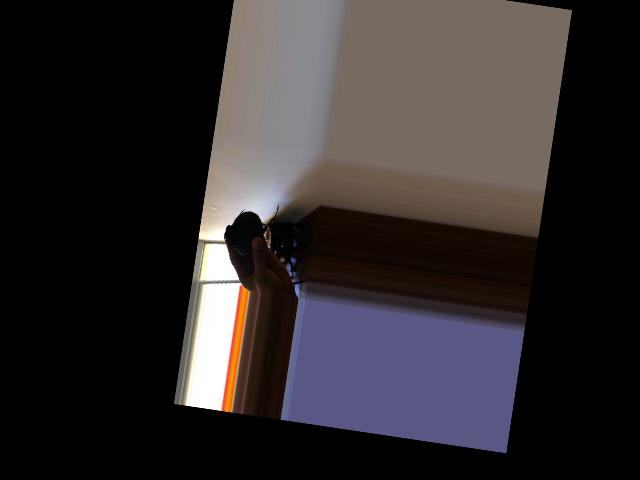beet: (221, 195, 279, 259)
